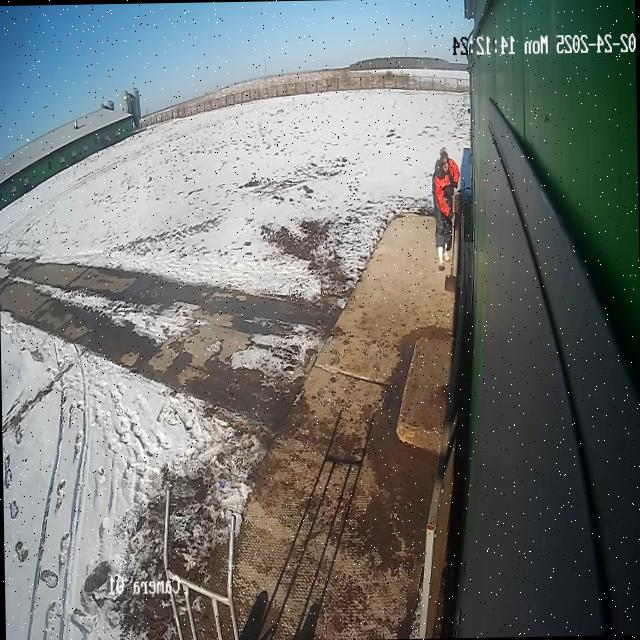Red uniform: (432, 147, 459, 269)
